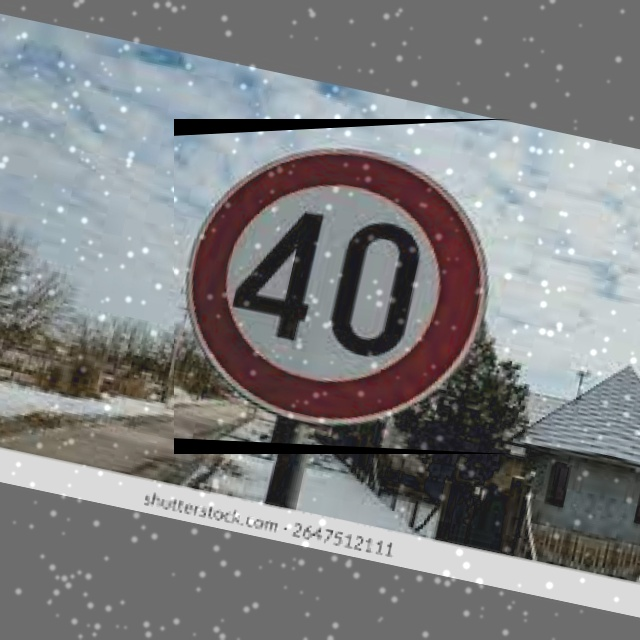Speed_Limit_40: (174, 119, 512, 454)
